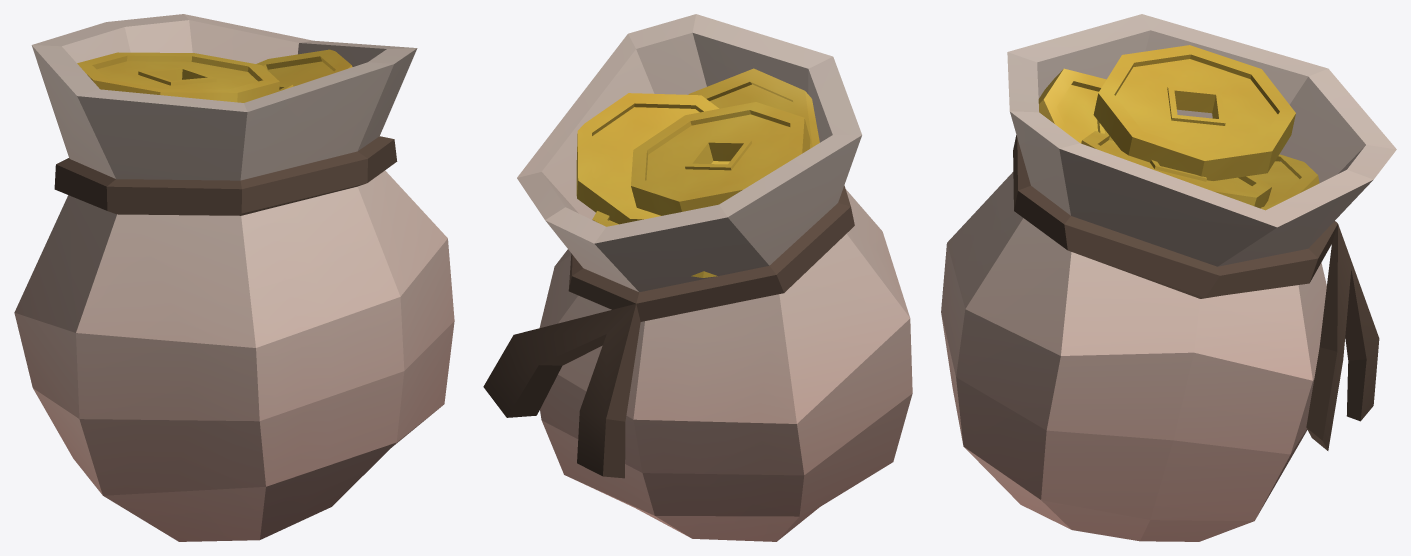
Rendered from Money_bag_withAO.fbx.
3 renders of one model, left to right at view 1: azimuth 30°, elevation 25°; view 2: azimuth 150°, elevation 25°; view 3: azimuth 270°, elevation 25°, orthographic. The views are drawn at different scales.
Visible parts, largest first — view 1: Money_bag; view 2: Money_bag; view 3: Money_bag.
Boxes of the visible parts, <box> form: Money_bag: <box>14,14,454,541</box>; Money_bag: <box>483,14,912,541</box>; Money_bag: <box>941,14,1396,541</box>.
Size of the model in its own units: 0.5899 by 0.7543 by 0.6746.
Materials: 1 (1 with a texture image).
